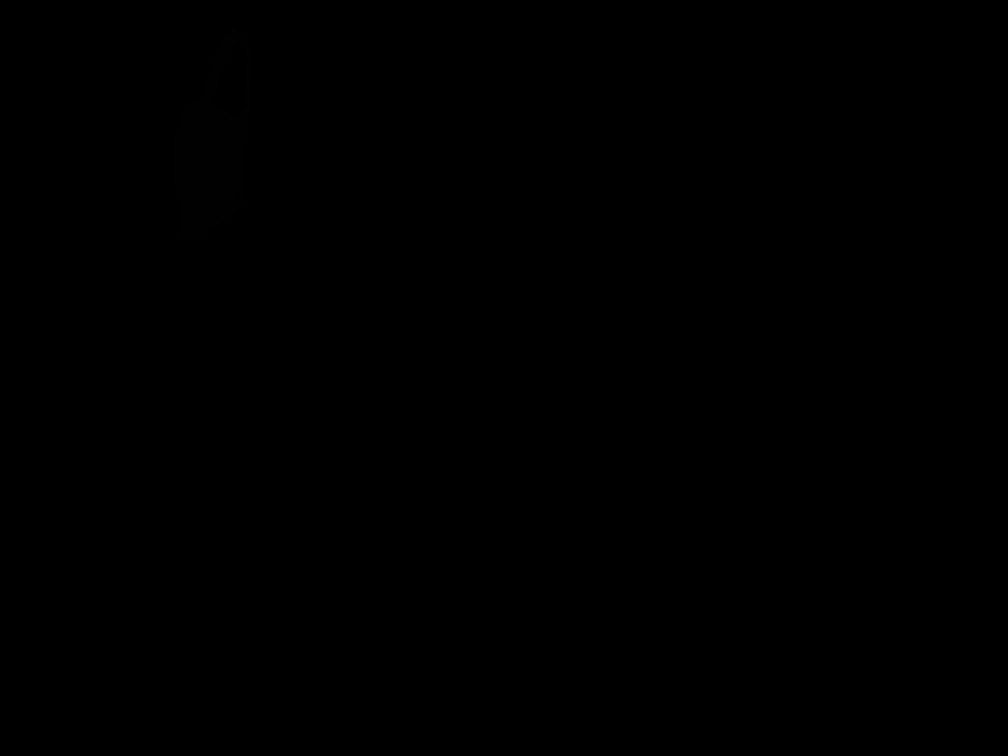car_door: (174, 27, 252, 240)
